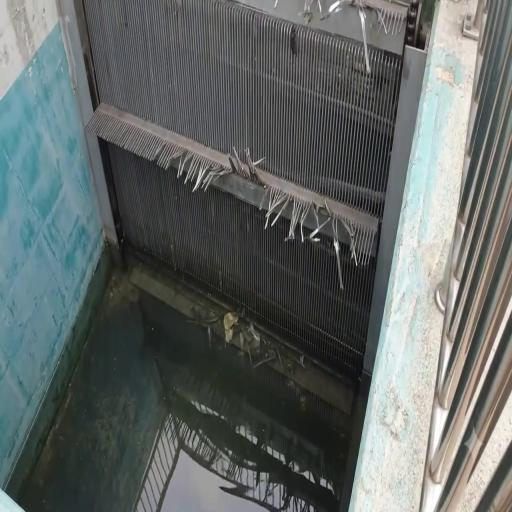rake: (81, 3, 428, 349)
rake_broken: (280, 0, 394, 81), (313, 194, 352, 292), (142, 128, 193, 189), (185, 148, 235, 206), (282, 180, 321, 250), (254, 172, 290, 237), (230, 140, 270, 195), (344, 208, 363, 269)
